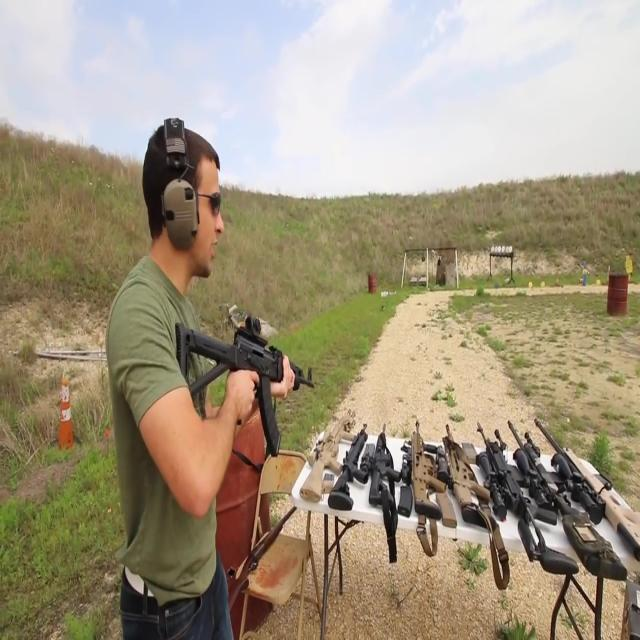Weapon: (294, 382, 640, 594), (152, 295, 315, 460), (208, 484, 310, 619)
